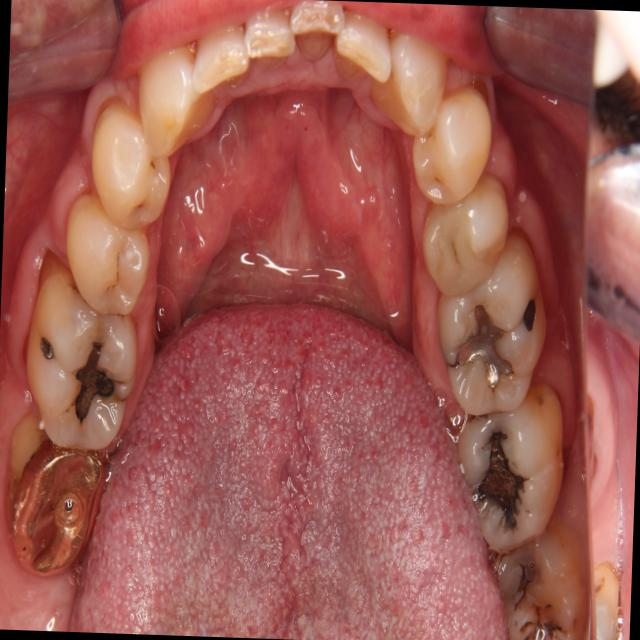tooth: (19, 240, 144, 459), (426, 220, 554, 422), (444, 371, 571, 562), (1, 402, 116, 588), (475, 507, 596, 640), (58, 179, 157, 322), (415, 165, 514, 304), (85, 87, 176, 231), (128, 31, 224, 163), (407, 75, 496, 211), (368, 19, 450, 143), (330, 0, 396, 98), (189, 9, 250, 100), (287, 0, 347, 69), (241, 0, 301, 66)
